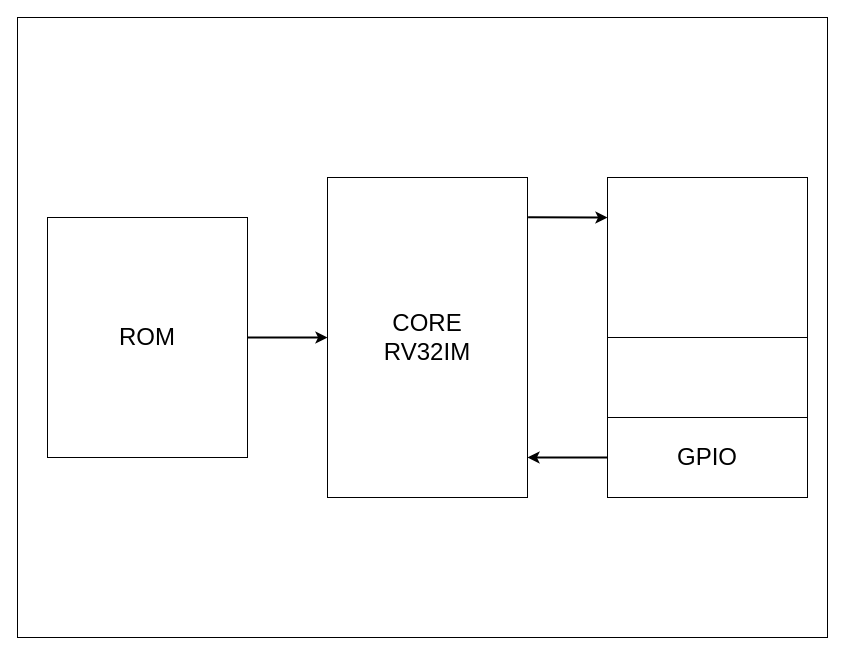
Image size: 845x655. Some labels were removed from this diagram. The shapes that lost their labels are listed below. From the top down, each one's centre as x and y in pixels, then its label:
At point 707,257: "RAM".
At point 707,377: "UART".
